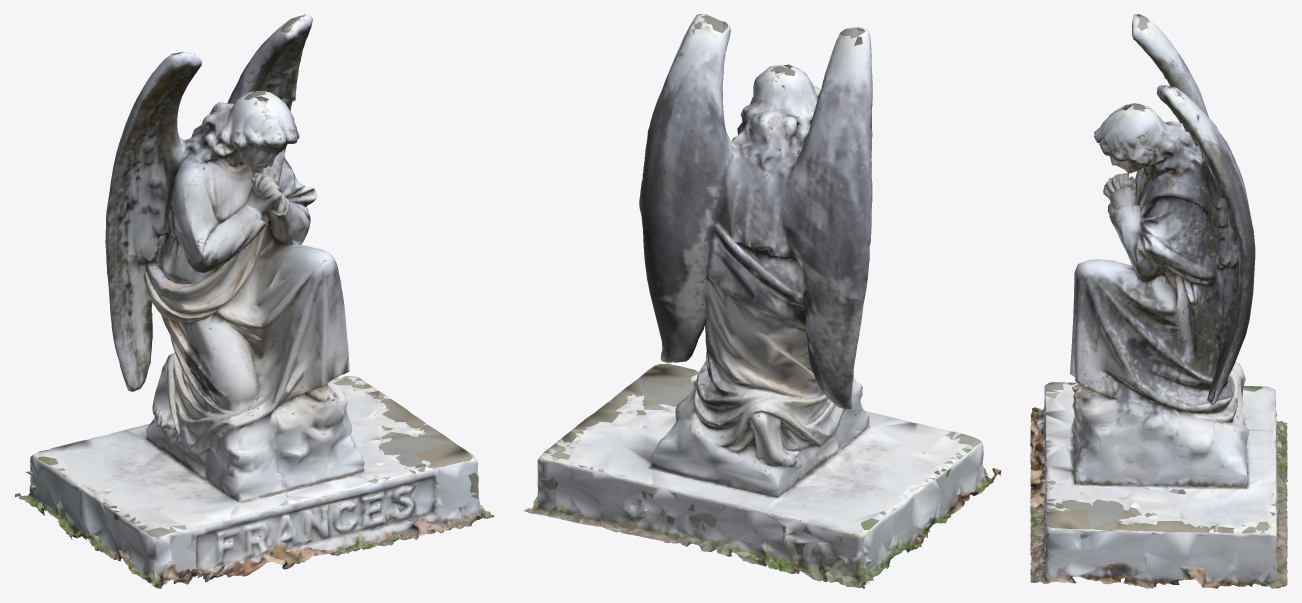
Rendered from angel_frances.glb.
3 renders of one model, left to right at view 1: azimuth 30°, elevation 25°; view 2: azimuth 150°, elevation 25°; view 3: azimuth 270°, elevation 25°, orthographic. The views are drawn at different scales.
Visible parts, largest first — view 1: default_0; view 2: default_0; view 3: default_0.
Part boxes in pixels (x1=…): default_0: x1=15, y1=14, x2=494, y2=588; default_0: x1=523, y1=14, x2=1001, y2=588; default_0: x1=1030, y1=14, x2=1287, y2=588.
Size of the model in its own units: 3.27 by 4.45 by 2.27.
1 material, 1 textured.
